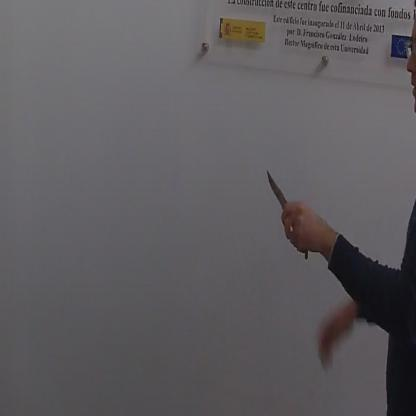knife: (262, 162, 311, 265)
